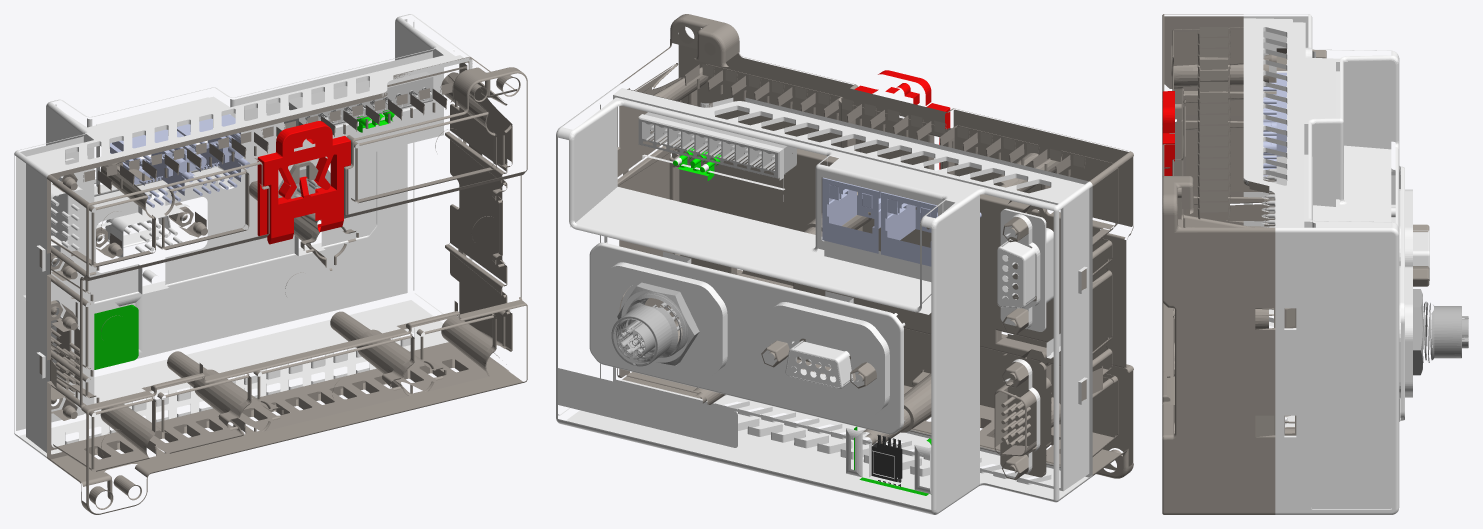
Rendered from octalink.glb.
3 views of the same model, side by side, from view 1: azimuth 30°, elevation 25°; view 2: azimuth 150°, elevation 25°; view 3: azimuth 270°, elevation 25° (orthographic). The views are drawn at different scales.
Parts seen in each view (by area): view 1: CMM-KSCR_MECH_CV_06_01_VA, CMM-KSCR_MECH_CH_06_01_VA, ____&____________20250407, IO200-03-V1, LED_PCBA_20250311, emcv_1.5-10-g-3.81, rj45 (2), rj45, P2-9pin(female)-__ (2), P3-15pin(male)-__, P2-9pin(female)-__; view 2: CMM-KSCR_MECH_CV_06_01_VA, CMM-KSCR_MECH_CH_06_01_VA, ____&____________20250407, P3-15pin(male)-__, P2-9pin(female)-__, emcv_1.5-10-g-3.81, M12-S8Y-GPFM16, rj45 (2), rj45, P2-9pin(female)-__ (2), SW3DPS-FISCHER HEX M16X1, KCDA01-105 (+1 smaller); view 3: CMM-KSCR_MECH_CV_06_01_VA, CMM-KSCR_MECH_CH_06_01_VA, M12-S8Y-GPFM16, ____&____________20250407, IO200-03-V1, rj45 (2), SW3DPS-FISCHER HEX M16X1, emcv_1.5-10-g-3.81, P2-9pin(female)-__ (2), rj45.
Part boxes in pixels (left/top/right/bottom): CMM-KSCR_MECH_CV_06_01_VA: left=14, top=14, right=472, bottom=458; CMM-KSCR_MECH_CH_06_01_VA: left=39, top=56, right=527, bottom=514; ____&____________20250407: left=94, top=152, right=376, bottom=302; IO200-03-V1: left=257, top=121, right=350, bottom=244; LED_PCBA_20250311: left=94, top=304, right=138, bottom=369; emcv_1.5-10-g-3.81: left=284, top=72, right=433, bottom=126; rj45 (2): left=177, top=114, right=250, bottom=195; rj45: left=110, top=129, right=193, bottom=208; P2-9pin(female)-__ (2): left=96, top=204, right=187, bottom=260; P3-15pin(male)-__: left=51, top=297, right=79, bottom=413; P2-9pin(female)-__: left=51, top=158, right=82, bottom=264; CMM-KSCR_MECH_CV_06_01_VA: left=556, top=83, right=1092, bottom=514; CMM-KSCR_MECH_CH_06_01_VA: left=617, top=14, right=1133, bottom=478; ____&____________20250407: left=597, top=251, right=889, bottom=419; P3-15pin(male)-__: left=994, top=353, right=1051, bottom=477; P2-9pin(female)-__: left=997, top=208, right=1053, bottom=331; emcv_1.5-10-g-3.81: left=638, top=112, right=796, bottom=178; M12-S8Y-GPFM16: left=611, top=291, right=686, bottom=366; rj45 (2): left=822, top=177, right=916, bottom=253; rj45: left=881, top=192, right=981, bottom=266; P2-9pin(female)-__ (2): left=771, top=338, right=876, bottom=388; SW3DPS-FISCHER HEX M16X1: left=617, top=282, right=699, bottom=365; KCDA01-105: left=871, top=434, right=902, bottom=486; CMM-KSCR_MECH_CV_06_01_VA: left=1243, top=14, right=1404, bottom=514; CMM-KSCR_MECH_CH_06_01_VA: left=1162, top=14, right=1296, bottom=514; M12-S8Y-GPFM16: left=1423, top=301, right=1468, bottom=362; ____&____________20250407: left=1391, top=171, right=1412, bottom=397; IO200-03-V1: left=1162, top=91, right=1174, bottom=175; rj45 (2): left=1263, top=100, right=1286, bottom=178; SW3DPS-FISCHER HEX M16X1: left=1413, top=289, right=1422, bottom=375; emcv_1.5-10-g-3.81: left=1261, top=156, right=1312, bottom=227; P2-9pin(female)-__ (2): left=1413, top=230, right=1429, bottom=280; rj45: left=1263, top=72, right=1286, bottom=121.
Size of the model in its own units: 1 by 0.7411 by 0.5978.
